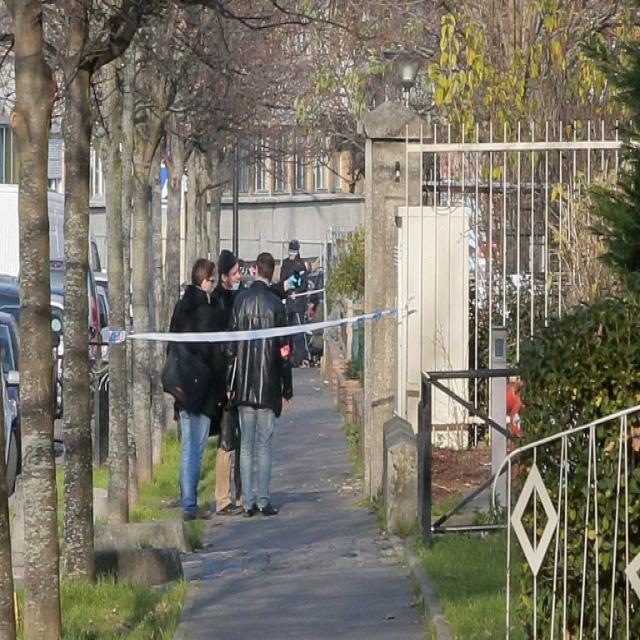body: (222, 249, 296, 519), (223, 249, 295, 514), (160, 257, 228, 525), (282, 236, 325, 363), (238, 247, 256, 281)
